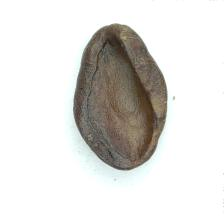NG: (78, 33, 161, 161)
